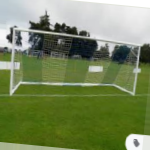goals: (8, 26, 143, 104)
